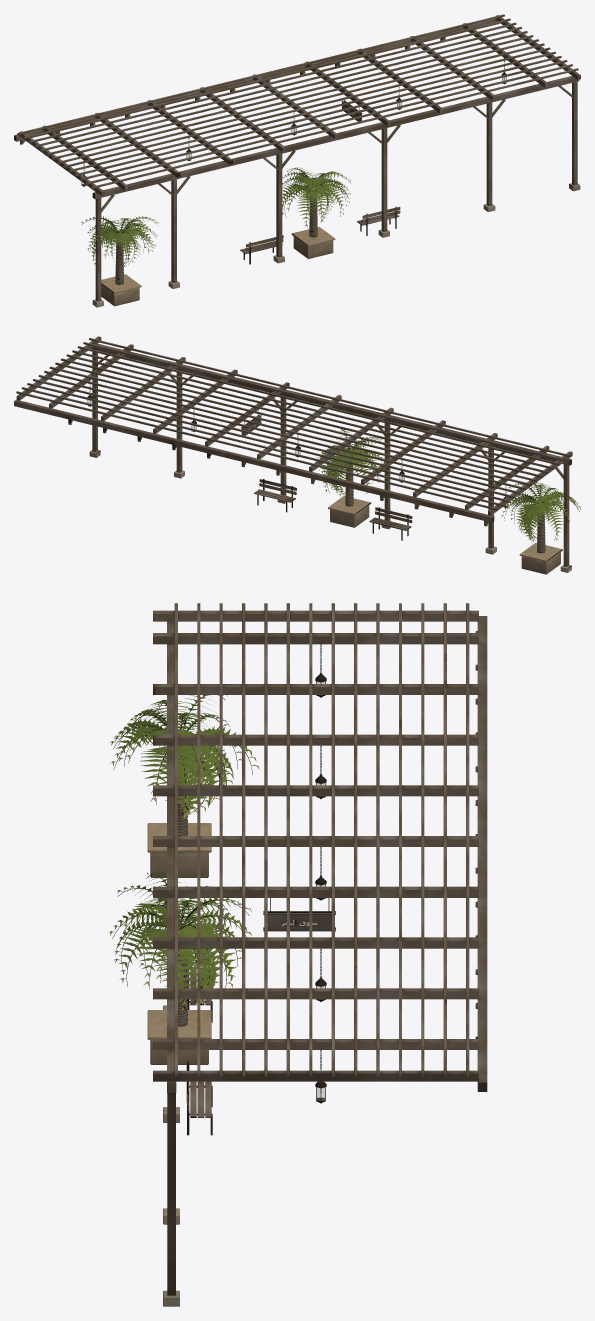
File: souq_street.glb
3 views of the same model, one above another, from view 1: azimuth 30°, elevation 25°; view 2: azimuth 150°, elevation 25°; view 3: azimuth 270°, elevation 25° (orthographic). The views are drawn at different scales.
Parts seen in each view (by area): view 1: GX_street_LOD0; view 2: GX_street_LOD0; view 3: GX_street_LOD0.
Part boxes in pixels (left/top/right/bottom): GX_street_LOD0: left=14, top=14, right=580, bottom=307; GX_street_LOD0: left=14, top=336, right=580, bottom=574; GX_street_LOD0: left=108, top=603, right=487, bottom=1306.
Size of what is drawn, in the model's own units: 21.09 by 4.86 by 7.12.
Materials: 3 (1 with a texture image).
